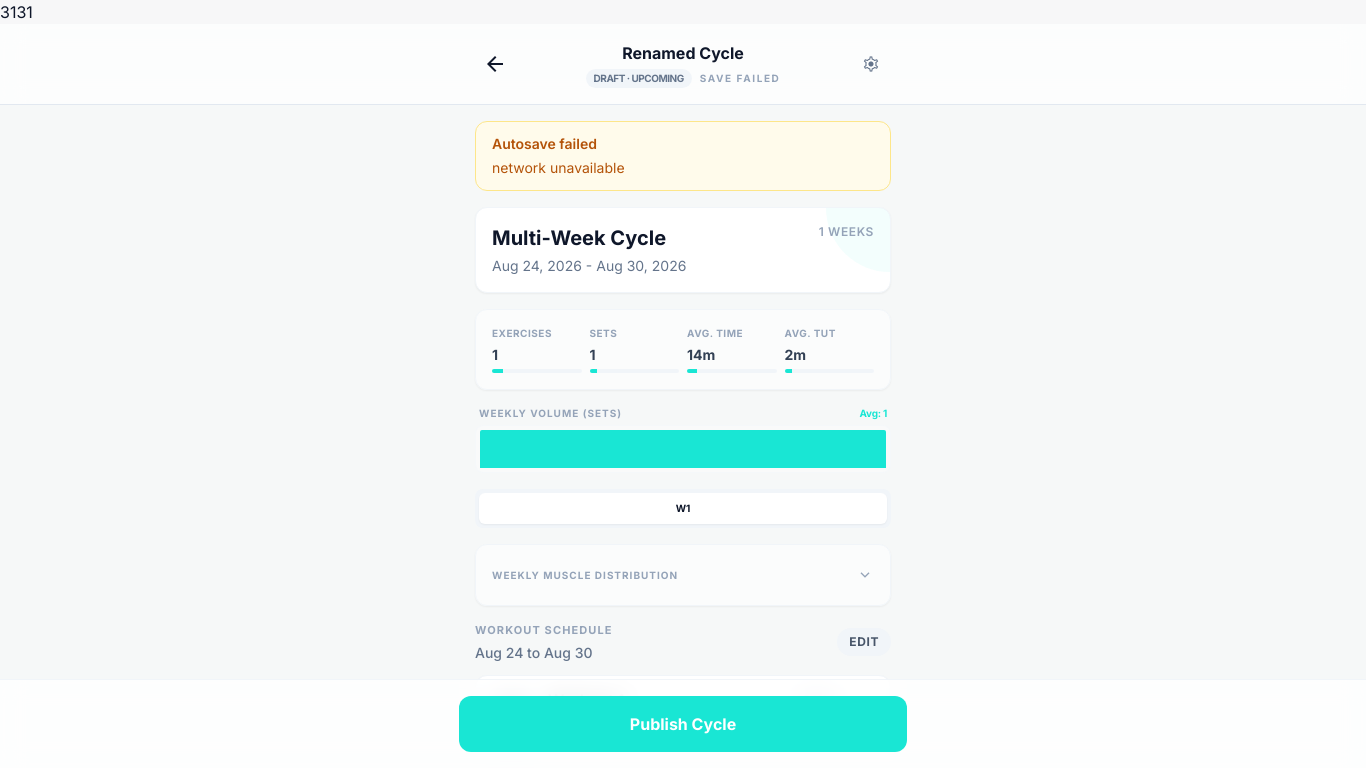
it: ManualBuilderMulti workout terminal-action barrier › Publish completes after a generic structural failure releases its temporary pause
This screenshot has width=1366, height=768.
Click the button "Publish Cycle" at {"x": 683, "y": 724}, box 459,696 -> 907,752
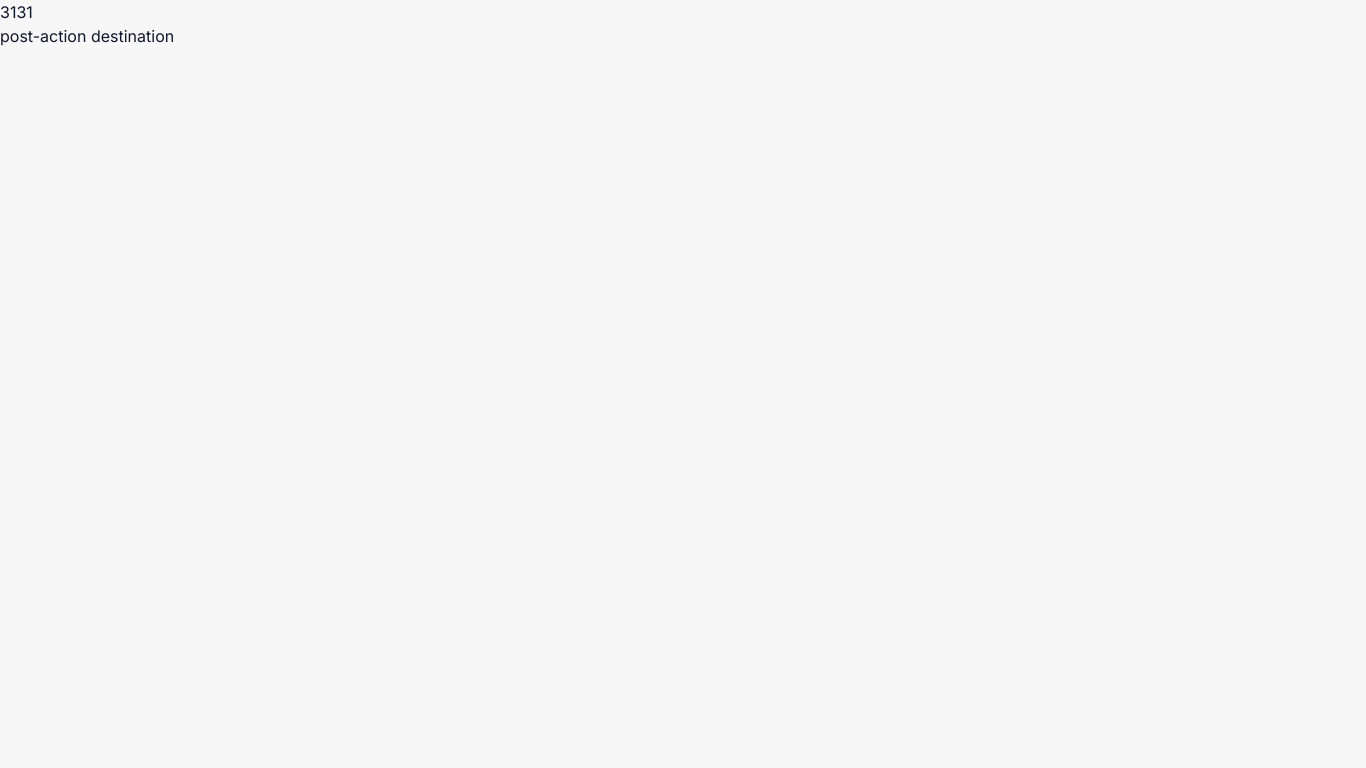
Now the text "post-action destination" is shown, box 0,26 -> 174,46
